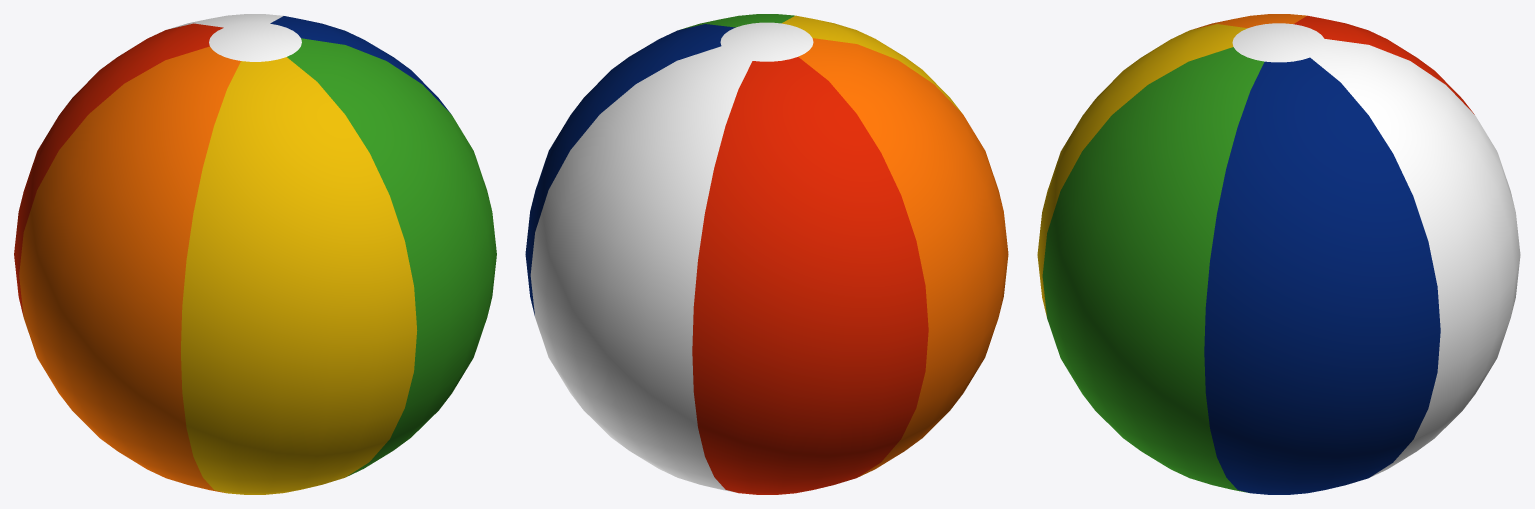
File: beach ball 1.fbx
3 views of the same model, side by side, from view 1: azimuth 30°, elevation 25°; view 2: azimuth 150°, elevation 25°; view 3: azimuth 270°, elevation 25° (orthographic).
Visible parts, largest first — view 1: Beach_Ball_1; view 2: Beach_Ball_1; view 3: Beach_Ball_1.
Boxes of the visible parts, x1,y1,x2,y2 form: Beach_Ball_1: (14, 14, 496, 494); Beach_Ball_1: (525, 14, 1008, 494); Beach_Ball_1: (1037, 14, 1520, 494).
Bounding box in the file's own units: 199 × 197 × 200.
1 material, 1 textured.
